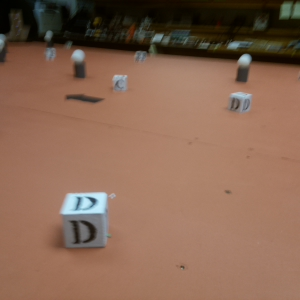blockC: (112, 74, 128, 91)
blockD: (59, 191, 111, 250), (229, 91, 252, 115)
obstacle: (234, 52, 254, 83), (71, 51, 86, 79), (45, 30, 54, 47)
start: (64, 93, 105, 108)
